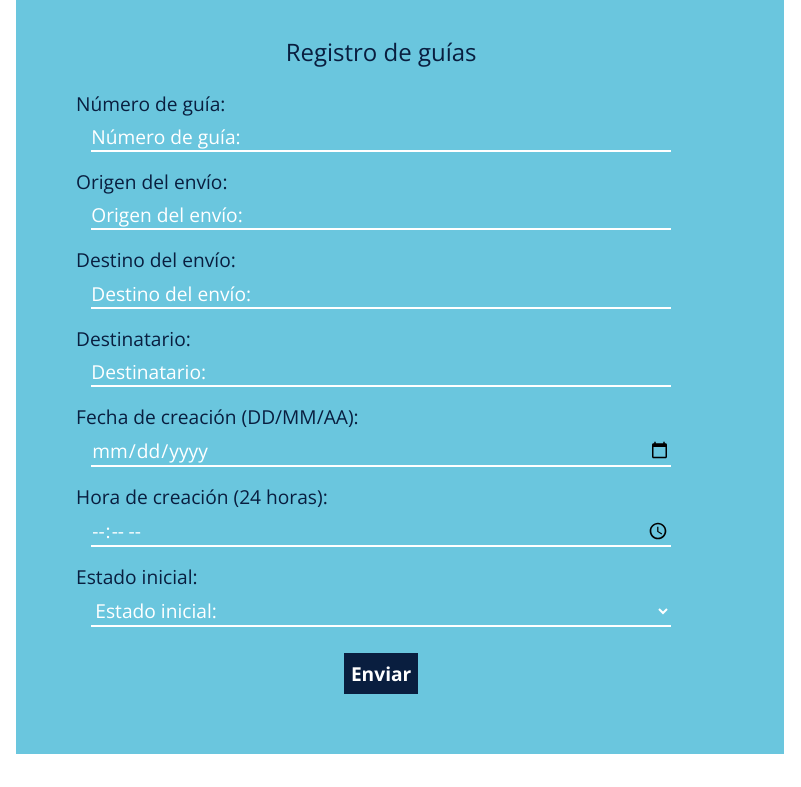
Test case: GuideRegister component › should shows an error of guide number repeated
The image size is (801, 787).
Type "12345678" into the field with placeholder "Número de guía:". click: x=381, y=138
box: [91,123,671,152]
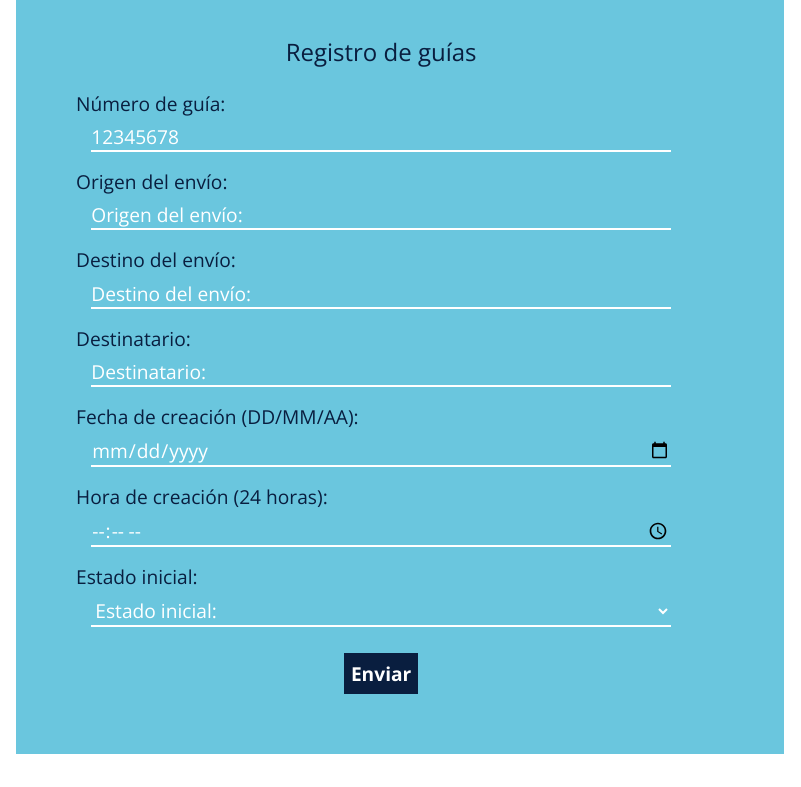
Click the button "Enviar". click: x=381, y=674
box: [344,653,418,694]
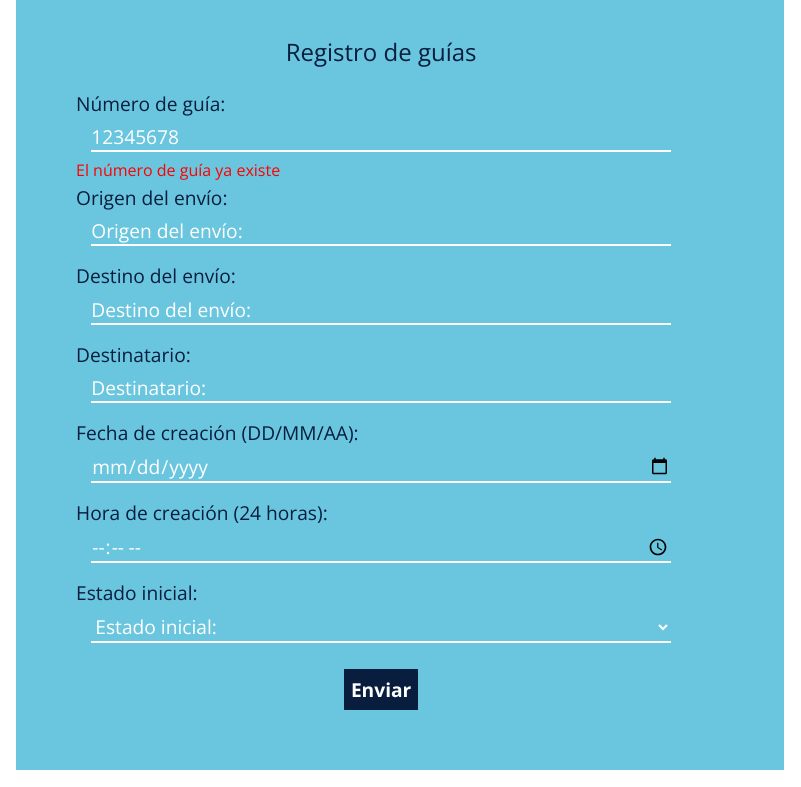
Expected: the text "El número de guía ya existe" is shown, [76,159,280,181]
